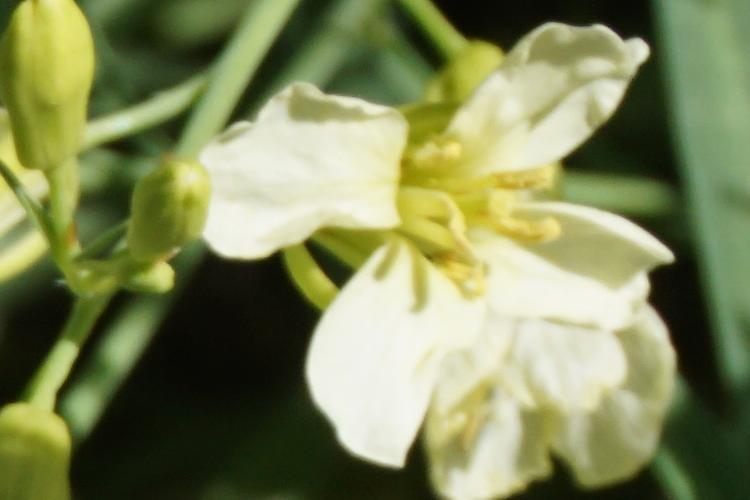bud: (6, 4, 105, 178), (122, 155, 205, 269)
white: (237, 29, 683, 494)
